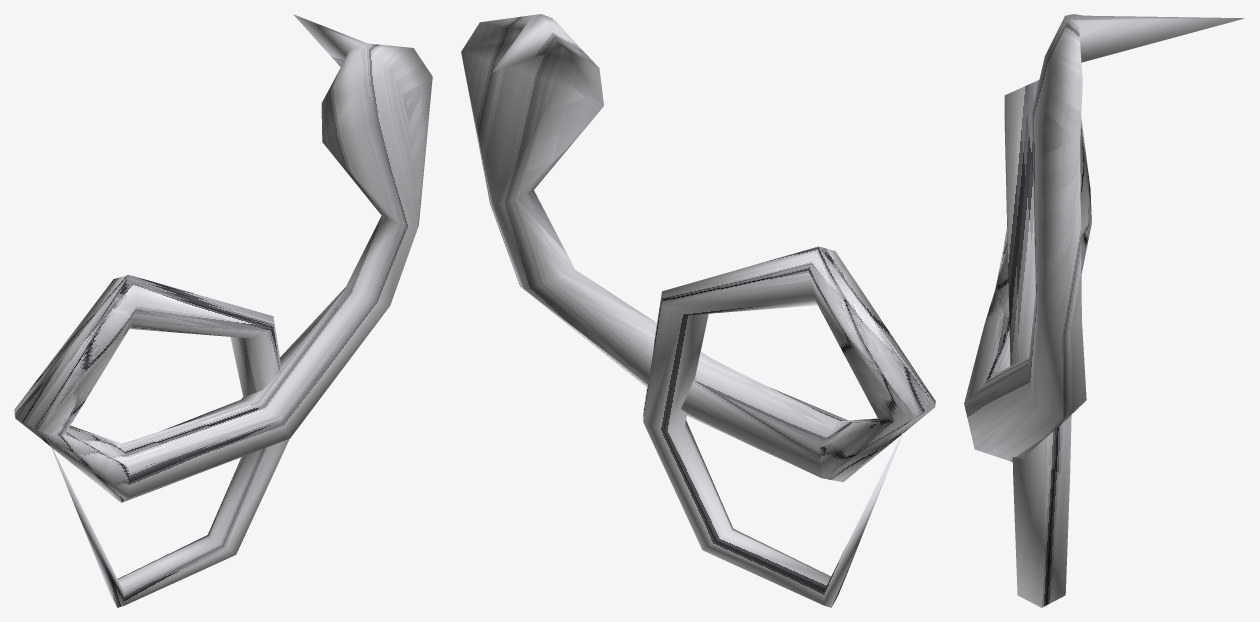
File: snake_000067.obj
The picture shows the model from 3 angles, left to right: view 1: azimuth 30°, elevation 25°; view 2: azimuth 150°, elevation 25°; view 3: azimuth 270°, elevation 25°; orthographic projection. The views are drawn at different scales.
Parts seen in each view (by area): view 1: Cylinder; view 2: Cylinder; view 3: Cylinder.
Boxes of the visible parts, bbox=[...] form: Cylinder: bbox=[14, 14, 432, 607]; Cylinder: bbox=[461, 14, 935, 607]; Cylinder: bbox=[964, 14, 1244, 607].
Size of the model in its own units: 3.3 by 3.63 by 1.27.
